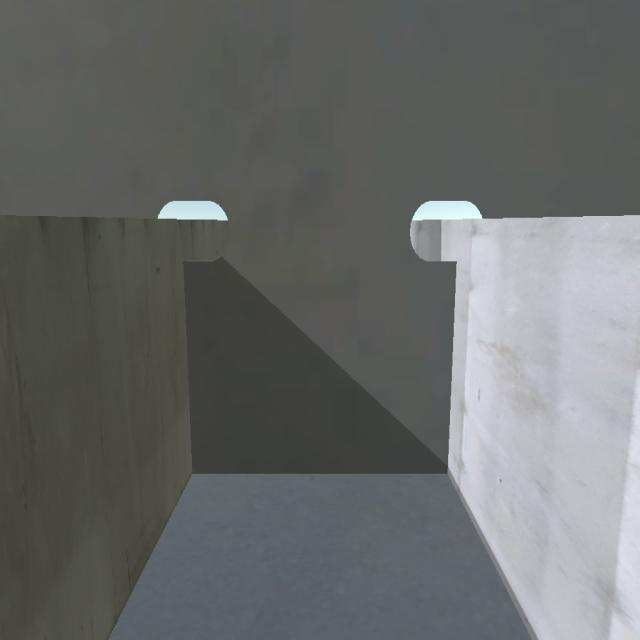fillet_yong_jeop_jang: (183, 449, 457, 482)
longi_yong_jeop_jang: (180, 260, 202, 482), (443, 254, 456, 478)
